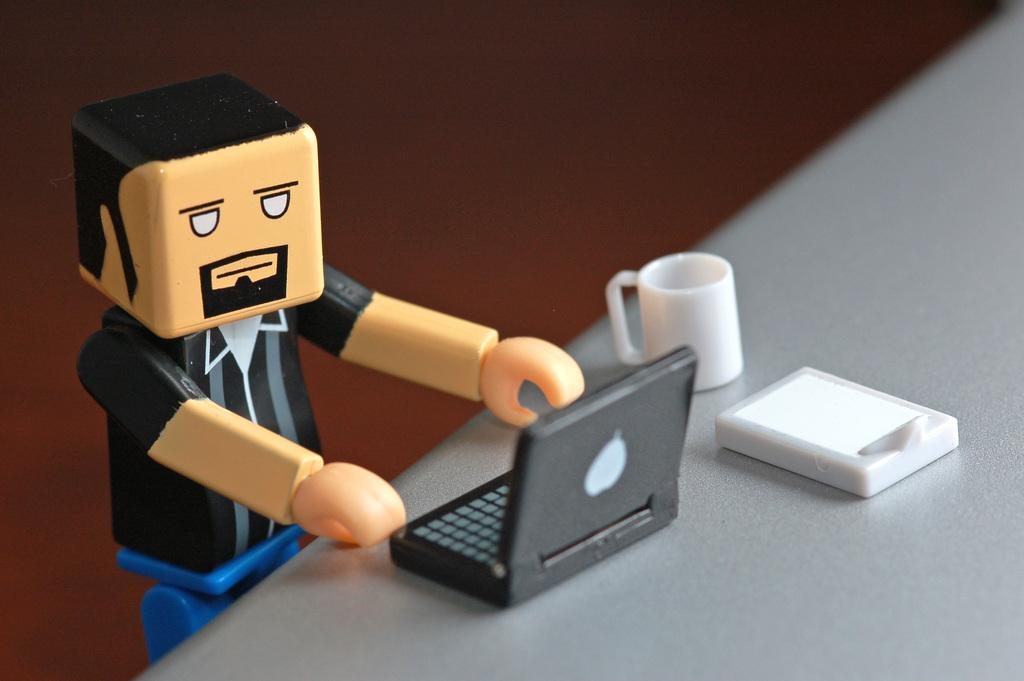Laptop: (389, 343, 698, 609)
